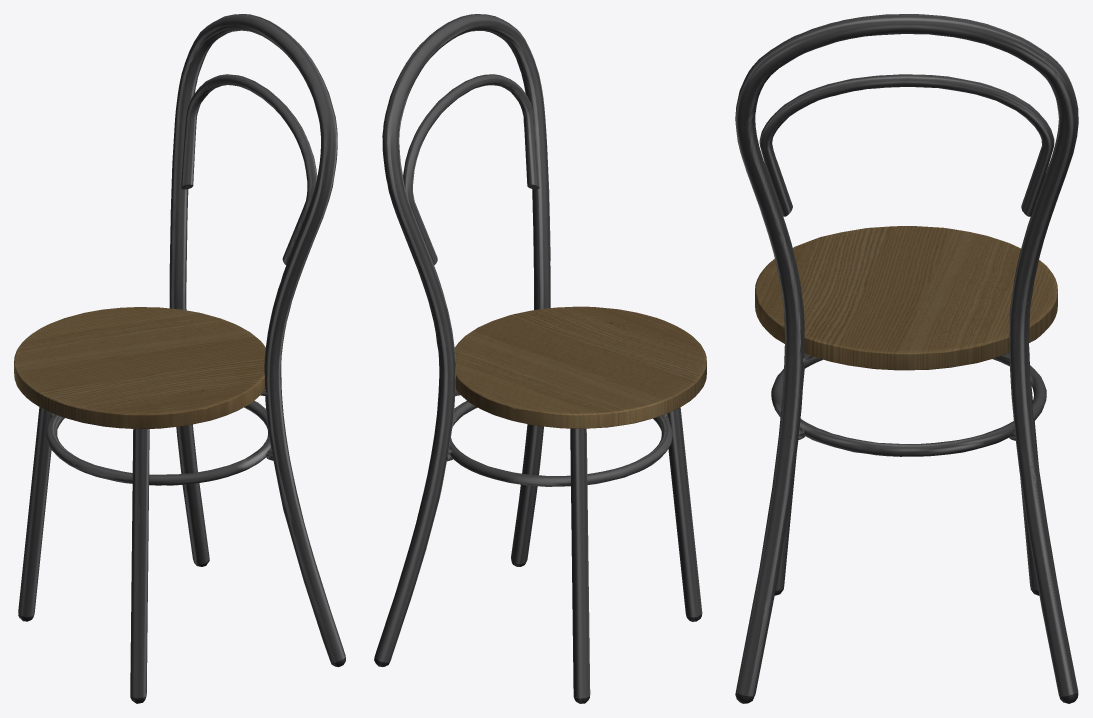
File: chair_chair_0de2dbd3-7bbb-51a2-a5c7-6c38eb1c8685.glb
The picture shows the model from 3 angles, left to right: view 1: azimuth 30°, elevation 25°; view 2: azimuth 150°, elevation 25°; view 3: azimuth 270°, elevation 25°; orthographic projection. The views are drawn at different scales.
Parts seen in each view (by area): view 1: raw_model.obj; view 2: raw_model.obj; view 3: raw_model.obj.
Part boxes in pixels (left/top/right/bottom): raw_model.obj: left=14, top=14, right=345, bottom=703; raw_model.obj: left=374, top=14, right=706, bottom=703; raw_model.obj: left=735, top=14, right=1078, bottom=703.
Bounding box in the file's own units: 0.4257 × 0.9354 × 0.42.
Materials: 1 (1 with a texture image).
